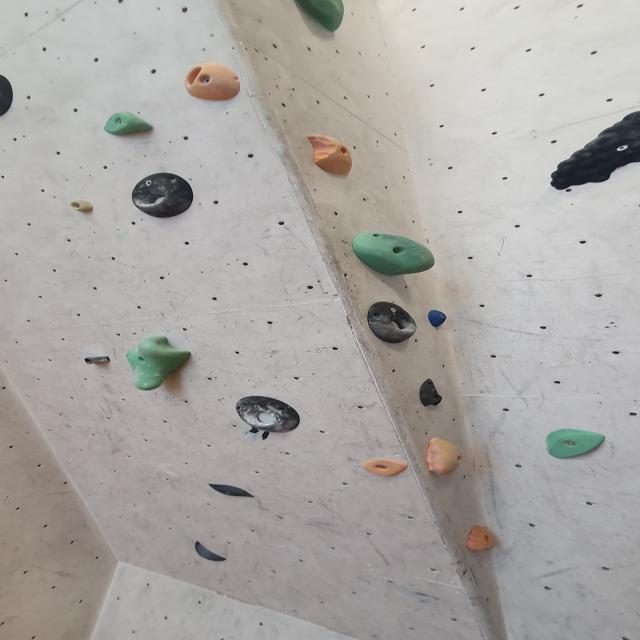Crimp: (358, 456, 412, 478), (463, 523, 497, 555), (425, 310, 449, 328)
Jug: (542, 106, 639, 192), (122, 333, 198, 392), (287, 0, 347, 34)
Pinch: (303, 134, 357, 178), (424, 437, 468, 479), (100, 110, 158, 139), (82, 353, 113, 367)
Pocket: (129, 172, 199, 220), (232, 396, 306, 435), (181, 61, 243, 104), (365, 302, 419, 346)
Sloper: (348, 233, 436, 280), (543, 427, 610, 462), (417, 378, 444, 410)
